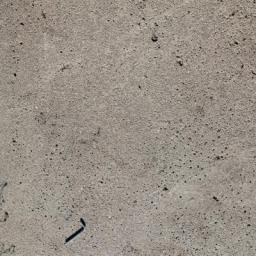FOD: (64, 218, 90, 248)
